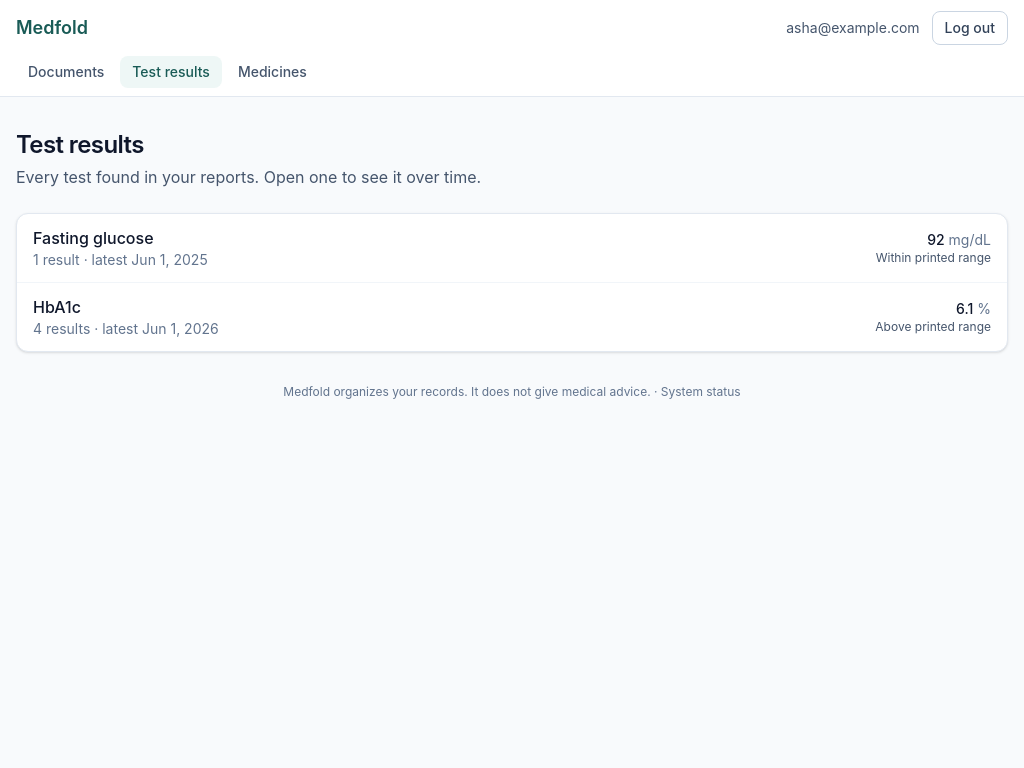
test results › lists every test with its latest value and opens its trend
Expected: the list item "HbA1c" shows "6.1%", [33,297,991,337]
Expected: the text "Above printed range" is shown, [875,319,991,334]
Click the link "HbA1c" at (57,307), box [33,297,81,317]
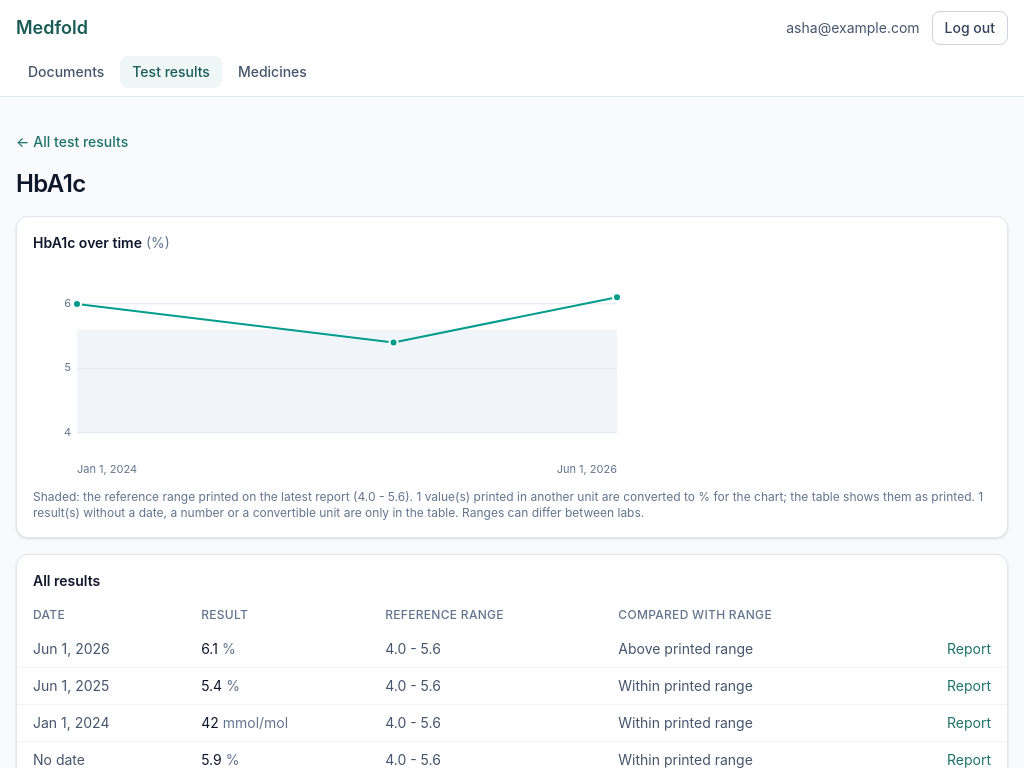
Result: the heading "HbA1c" is shown at [16,169,86,198]
